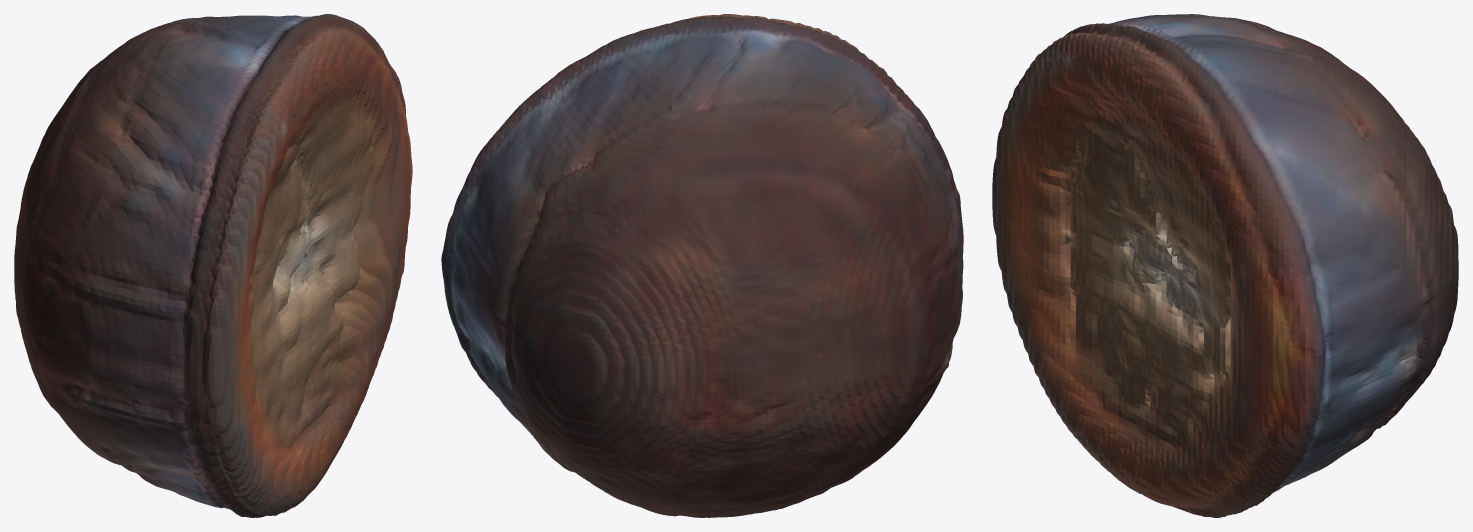
3 views of the same model, side by side, from view 1: azimuth 30°, elevation 25°; view 2: azimuth 150°, elevation 25°; view 3: azimuth 270°, elevation 25° (orthographic).
Bounding box in the file's own units: 0.6279 × 0.6521 × 0.5973.
